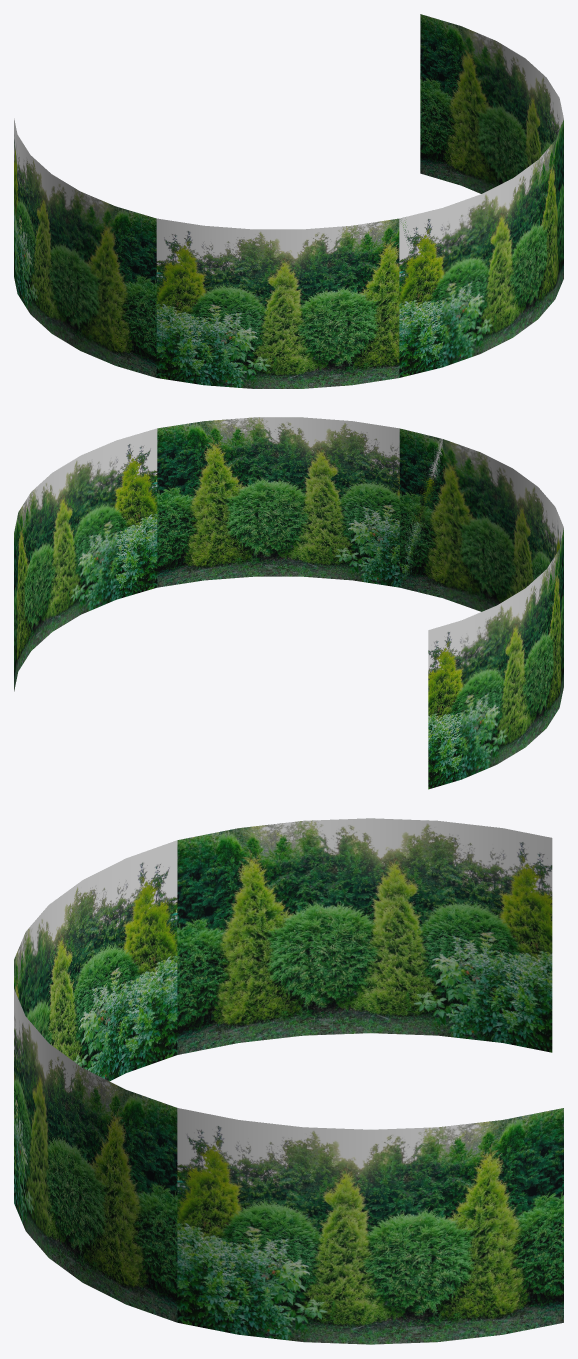
File: EnvironmentPlane.fbx
The picture shows the model from 3 angles, top to bottom: view 1: azimuth 30°, elevation 25°; view 2: azimuth 150°, elevation 25°; view 3: azimuth 270°, elevation 25°; orthographic projection. The views are drawn at different scales.
Parts seen in each view (by area): view 1: Plane001; view 2: Plane001; view 3: Plane001.
Boxes of the visible parts, x1,y1,x2,y2 form: Plane001: (14, 14, 563, 388); Plane001: (14, 417, 563, 789); Plane001: (14, 818, 563, 1344).
Bounding box in the file's own units: 2913 × 937 × 2174.
Materials: 1 (1 with a texture image).
